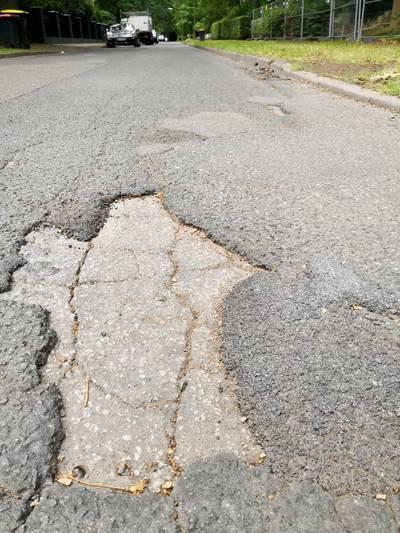pothole: (0, 173, 280, 502)
